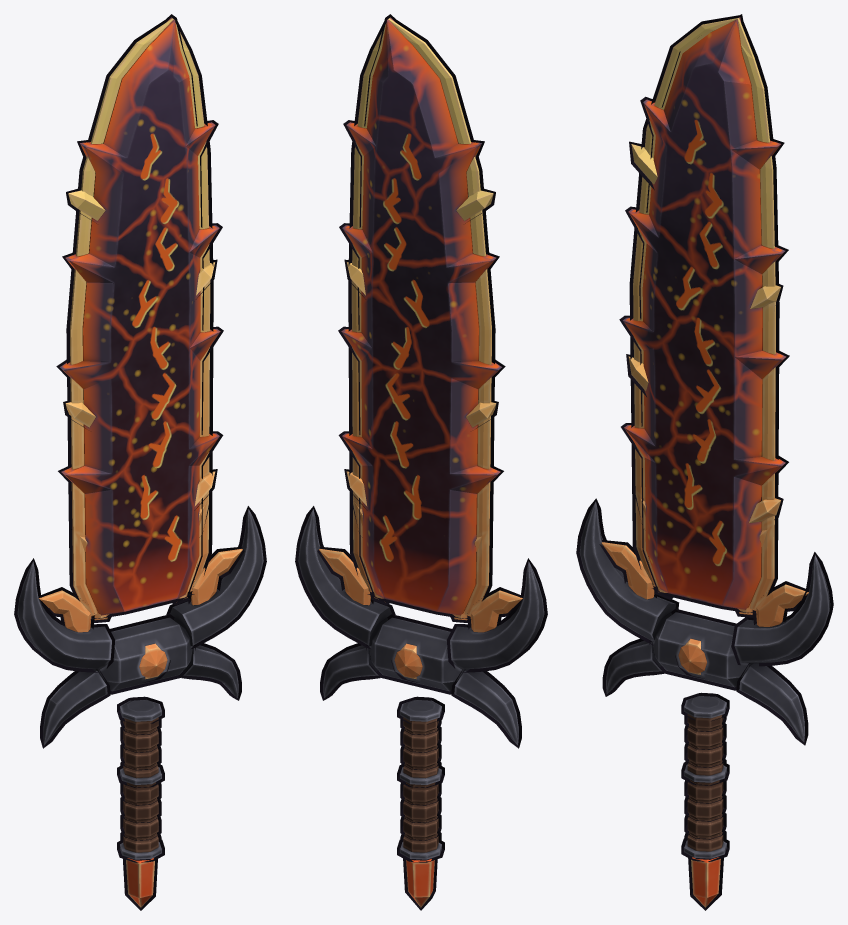
Rendered from MagmaTitanBlade.fbx.
3 renders of one model, left to right at view 1: azimuth 30°, elevation 25°; view 2: azimuth 150°, elevation 25°; view 3: azimuth 330°, elevation 25°, orthographic.
Parts seen in each view (by area): view 1: MagmaTitanBlade, MagmaTitanBladeTitanGlow, MagmaTitanBladeOutline; view 2: MagmaTitanBlade, MagmaTitanBladeTitanGlow, MagmaTitanBladeOutline; view 3: MagmaTitanBlade, MagmaTitanBladeTitanGlow, MagmaTitanBladeOutline.
Boxes of the visible parts, x1=… form: MagmaTitanBlade: x1=17, y1=17, x2=263, y2=859; MagmaTitanBladeTitanGlow: x1=39, y1=18, x2=242, y2=907; MagmaTitanBladeOutline: x1=14, y1=14, x2=266, y2=910; MagmaTitanBlade: x1=298, y1=17, x2=544, y2=859; MagmaTitanBladeTitanGlow: x1=319, y1=18, x2=522, y2=907; MagmaTitanBladeOutline: x1=295, y1=14, x2=547, y2=910; MagmaTitanBlade: x1=579, y1=17, x2=830, y2=858; MagmaTitanBladeTitanGlow: x1=601, y1=18, x2=808, y2=907; MagmaTitanBladeOutline: x1=576, y1=14, x2=833, y2=910.
Bounding box in the file's own units: 184 × 630 × 44.4.
2 materials, 1 textured.
